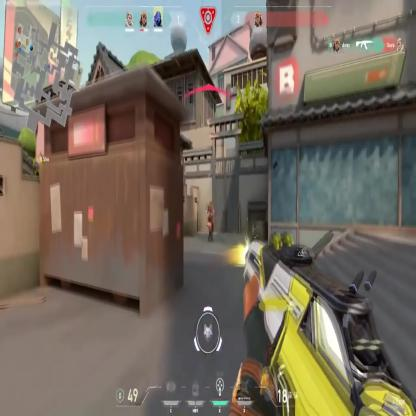enemy: (204, 201, 214, 242)
enemy_head: (209, 201, 212, 208)
